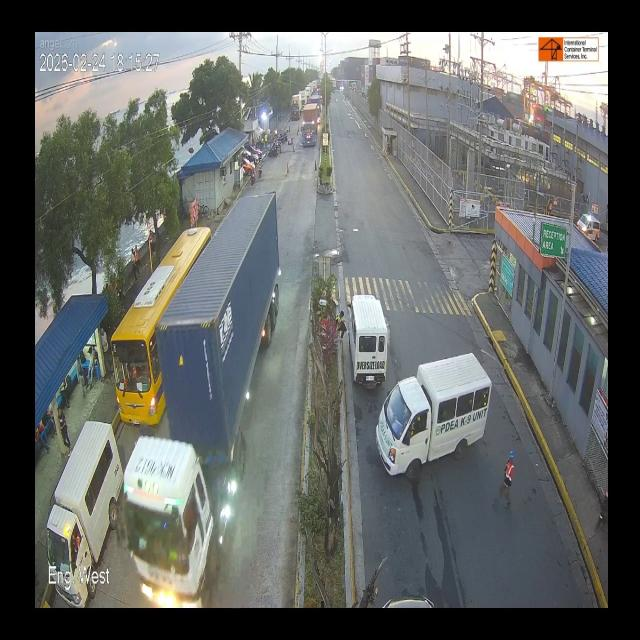bus: (115, 232, 205, 418)
car: (381, 363, 493, 481), (45, 433, 111, 556), (347, 291, 390, 389)
truck: (118, 186, 296, 605), (303, 103, 319, 148), (290, 87, 304, 119)
